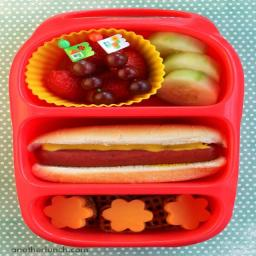hotdog: (20, 127, 234, 190)
